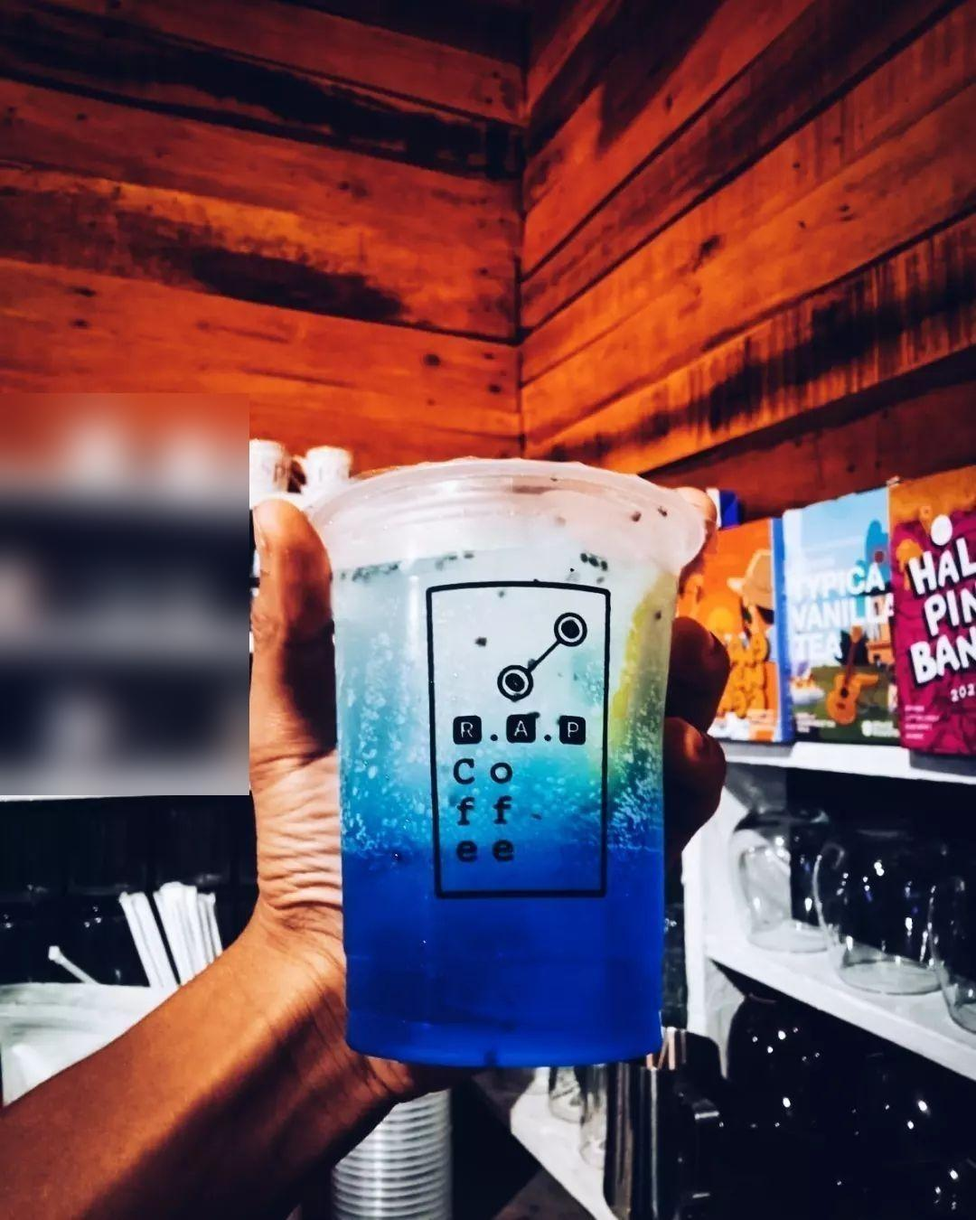cup-disposable: (304, 446, 704, 1091)
